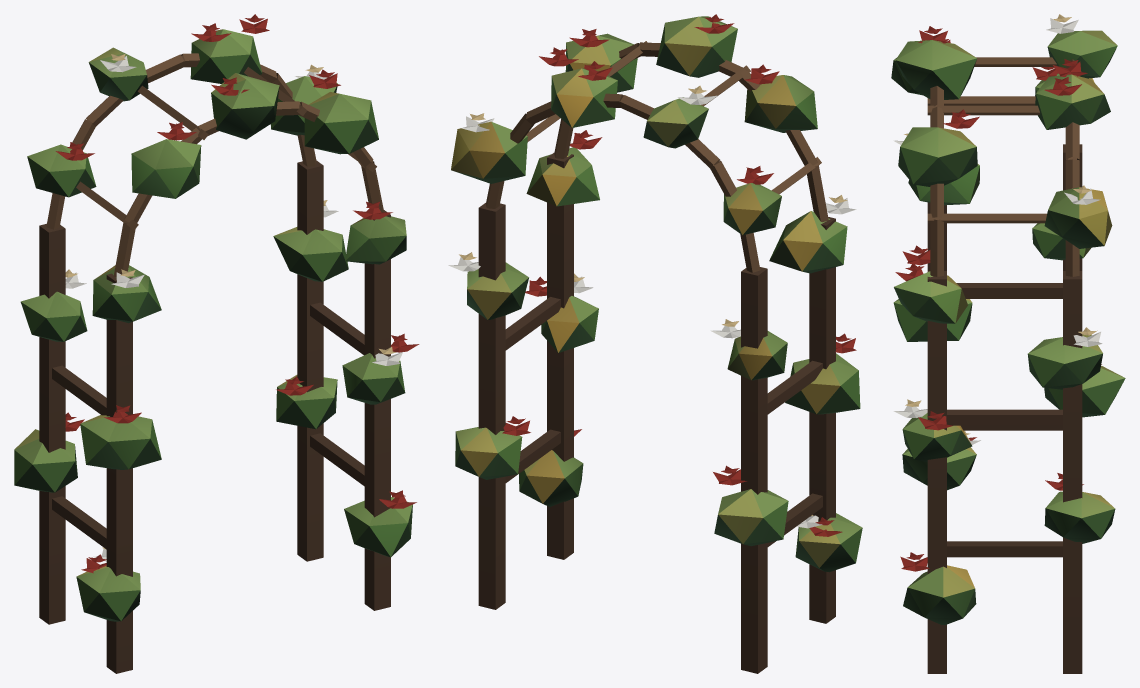
The model's file is arbour.glb.
3 renders of one model, left to right at view 1: azimuth 30°, elevation 25°; view 2: azimuth 150°, elevation 25°; view 3: azimuth 270°, elevation 25°, orthographic.
Visible parts, largest first — view 1: isl_arbour; view 2: isl_arbour; view 3: isl_arbour.
Boxes of the visible parts, x1,y1,x2,y2 form: isl_arbour: [14, 14, 419, 673]; isl_arbour: [448, 14, 862, 673]; isl_arbour: [891, 14, 1125, 673].
Bounding box in the file's own units: 1.59 × 2.58 × 0.9689.
